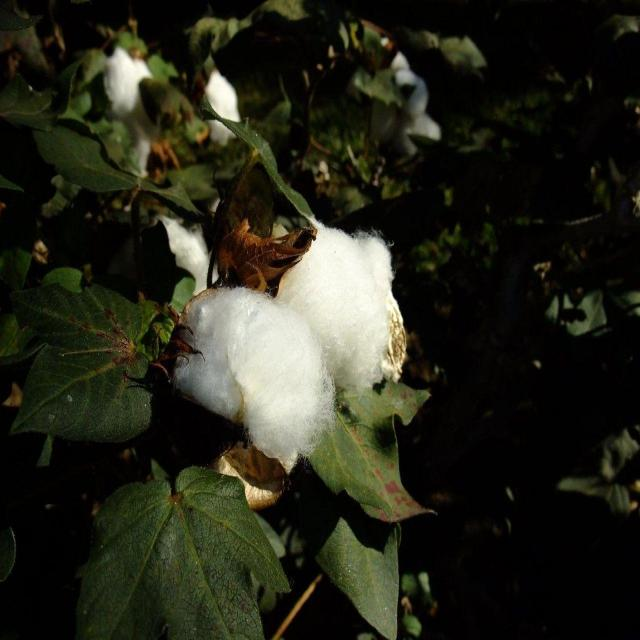Early_blight: (141, 269, 344, 480), (211, 210, 418, 406)
